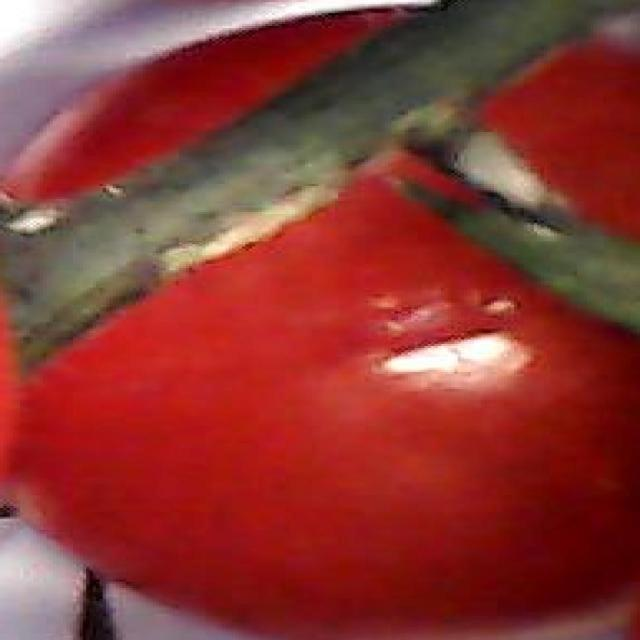Healthy Fruit: (23, 33, 426, 427)
